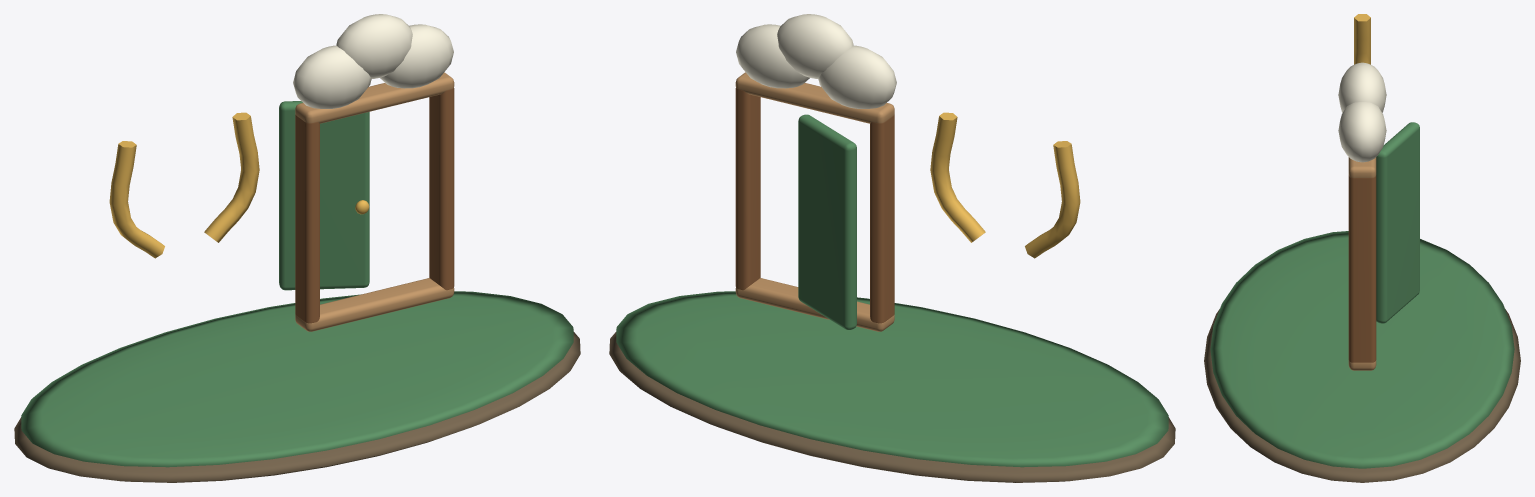
File: closing-sky.glb
3 renders of one model, left to right at view 1: azimuth 30°, elevation 25°; view 2: azimuth 150°, elevation 25°; view 3: azimuth 270°, elevation 25°, orthographic. The views are drawn at different scales.
Visible parts, largest first — view 1: closing-sky_surface_01, closing-sky_surface_04, closing-sky_surface_00, closing-sky_surface_03, closing-sky_surface_05, closing-sky_surface_02; view 2: closing-sky_surface_01, closing-sky_surface_04, closing-sky_surface_00, closing-sky_surface_03, closing-sky_surface_02, closing-sky_surface_05; view 3: closing-sky_surface_01, closing-sky_surface_00, closing-sky_surface_04, closing-sky_surface_03, closing-sky_surface_02, closing-sky_surface_05.
Boxes of the visible parts, bbox=[...] form: closing-sky_surface_01: bbox=[21, 101, 573, 467]; closing-sky_surface_04: bbox=[295, 88, 454, 323]; closing-sky_surface_00: bbox=[14, 332, 580, 482]; closing-sky_surface_03: bbox=[293, 14, 453, 108]; closing-sky_surface_05: bbox=[295, 72, 454, 331]; closing-sky_surface_02: bbox=[109, 112, 369, 258]; closing-sky_surface_01: bbox=[616, 114, 1168, 467]; closing-sky_surface_04: bbox=[735, 88, 894, 323]; closing-sky_surface_00: bbox=[609, 332, 1175, 482]; closing-sky_surface_03: bbox=[736, 14, 896, 108]; closing-sky_surface_02: bbox=[930, 112, 1080, 258]; closing-sky_surface_05: bbox=[735, 72, 894, 331]; closing-sky_surface_01: bbox=[1210, 122, 1514, 468]; closing-sky_surface_00: bbox=[1204, 309, 1520, 482]; closing-sky_surface_04: bbox=[1348, 175, 1376, 362]; closing-sky_surface_03: bbox=[1338, 62, 1386, 162]; closing-sky_surface_02: bbox=[1354, 14, 1370, 64]; closing-sky_surface_05: bbox=[1348, 157, 1376, 370].
Bounding box in the file's own units: 4.56 × 2.99 × 2.5.
